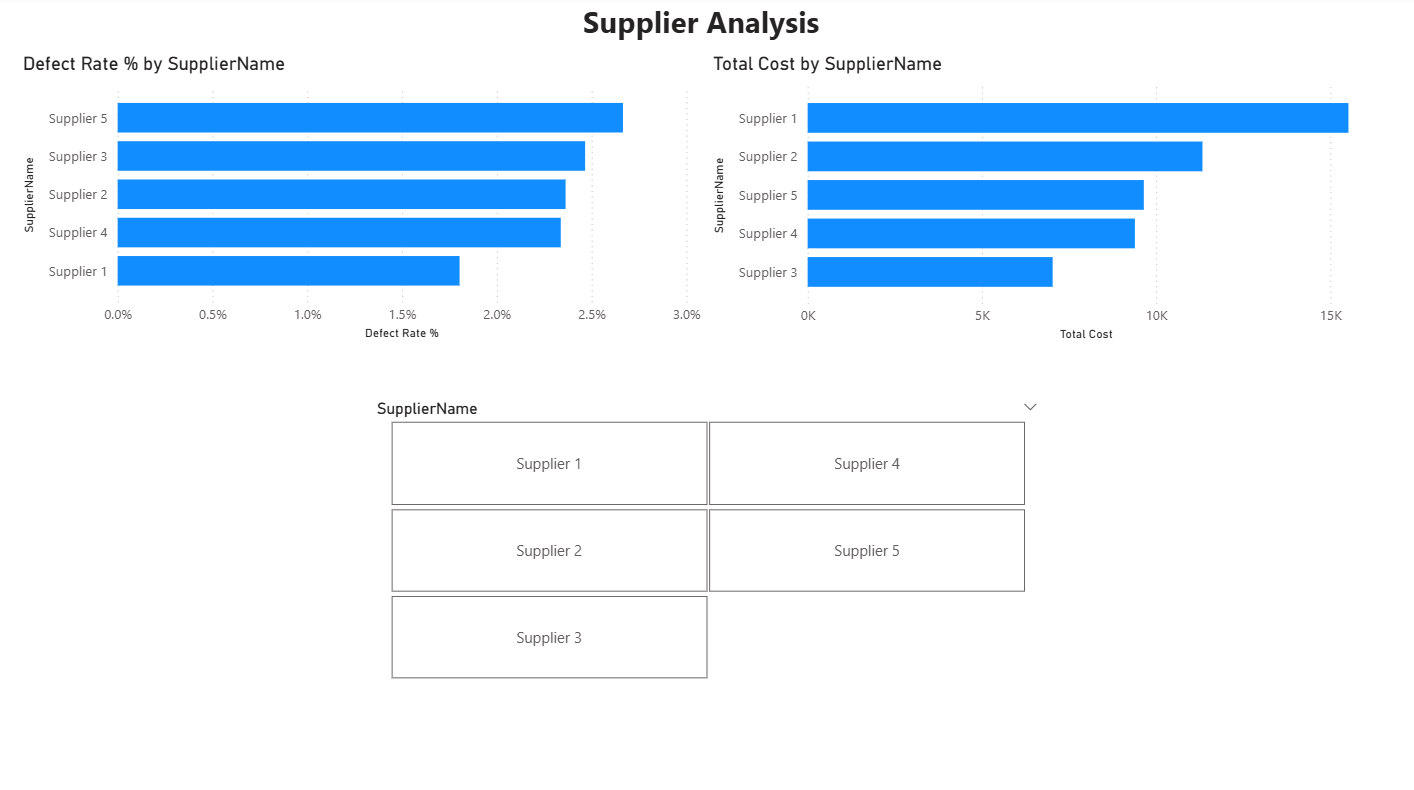

Layout of this report page (visuals, bound fields, positions):
{"tool":"powerbi","page":{"name":"Page 2","canvas":[1280,720],"ordinal":1},"visuals":[{"type":"textbox","box":[522.4,0,234,49.7],"z":0},{"type":"clusteredBarChart","fields":{"Category":["DimSupplier.SupplierName"],"Y":["FactSupplyChain.Defect Rate %"]},"box":[15.6,50.3,623.2,264.9],"z":1000},{"type":"clusteredBarChart","fields":{"Category":["DimSupplier.SupplierName"],"Y":["FactSupplyChain.Total Cost"]},"box":[640,50.3,610,266.1],"z":2000},{"type":"slicer","fields":{"Values":["DimSupplier.SupplierName"]},"box":[328.4,359.6,623.2,264.9],"z":3000}]}

Visuals, with their boxes in screenshot pixels (x1, y1, x2, y2), scaled from the page's 1280x720 canvas onto the 1414x790 screenshot:
textbox: 577 0 836 55
clusteredBarChart - DimSupplier.SupplierName x FactSupplyChain.Defect Rate %: 17 55 706 346
clusteredBarChart - DimSupplier.SupplierName x FactSupplyChain.Total Cost: 707 55 1381 347
slicer - DimSupplier.SupplierName: 363 395 1051 685
